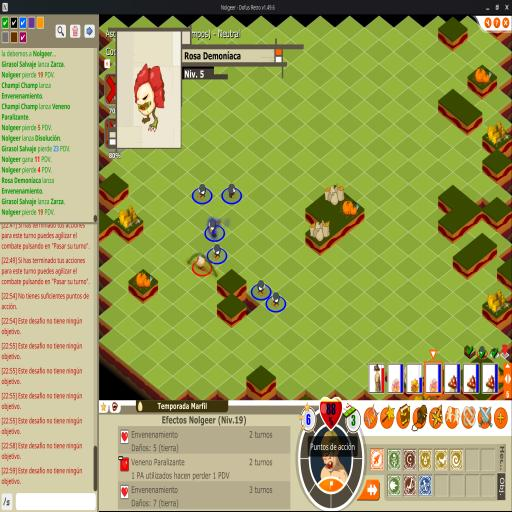Enemigos: (208, 218, 221, 238), (270, 291, 281, 309), (212, 243, 222, 261), (227, 182, 237, 200), (197, 184, 207, 201), (257, 280, 267, 297)
Personaje: (196, 253, 208, 272)
